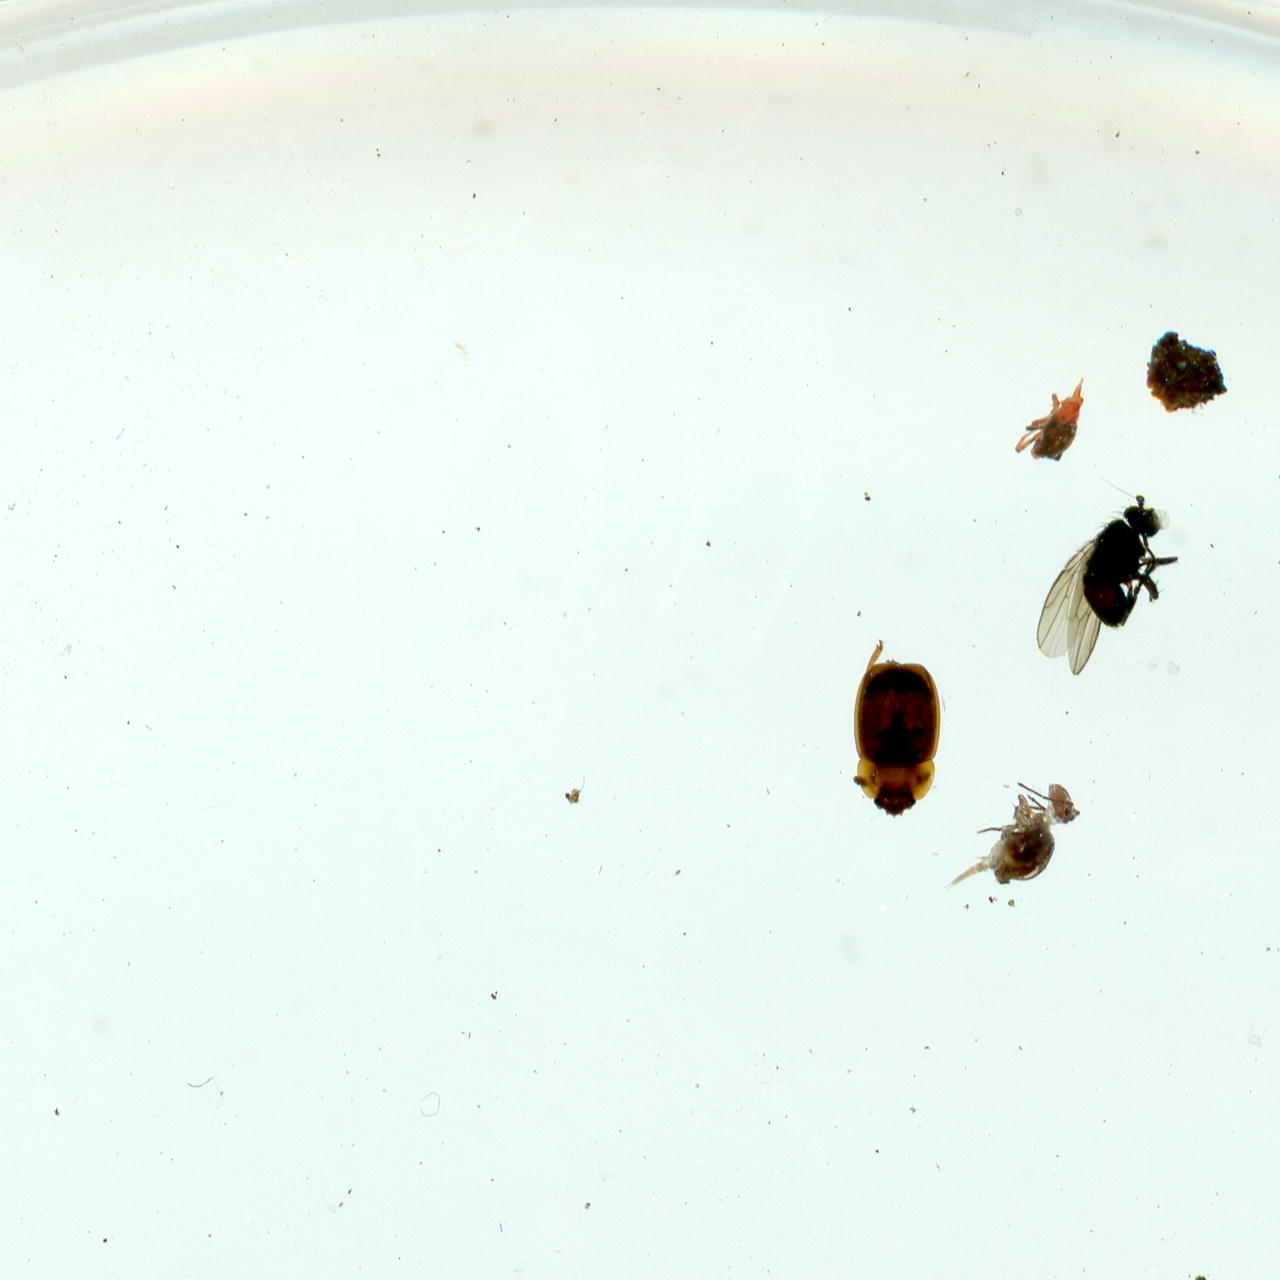arthropod: (1024, 492, 1185, 672), (843, 640, 945, 818), (945, 779, 1090, 896), (1009, 377, 1091, 467)
